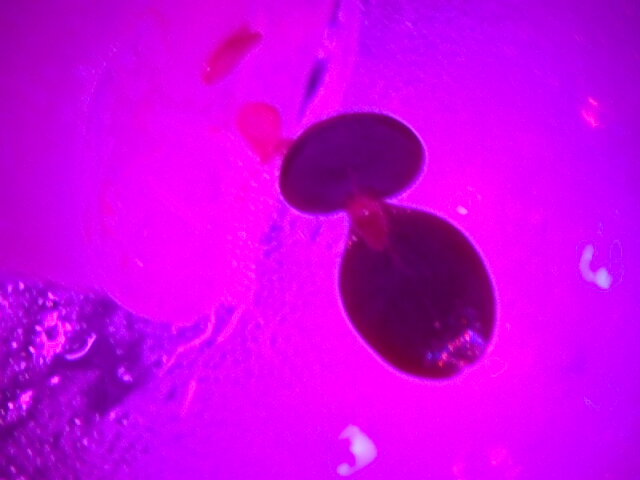seedling: (259, 98, 519, 377)
